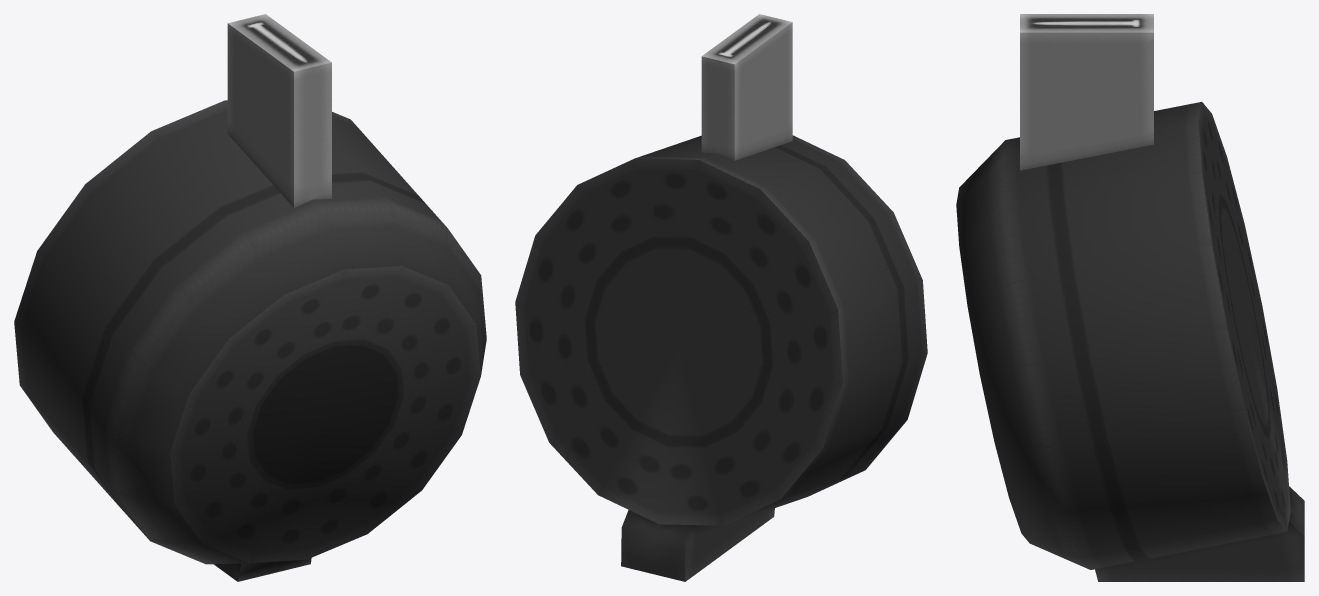
The model's file is NailGun_Clip.fbx.
The picture shows the model from 3 angles, left to right: view 1: azimuth 30°, elevation 25°; view 2: azimuth 150°, elevation 25°; view 3: azimuth 270°, elevation 25°; orthographic projection. The views are drawn at different scales.
Visible parts, largest first — view 1: DrumClip; view 2: DrumClip; view 3: DrumClip.
Boxes of the visible parts, bbox=[...] form: DrumClip: bbox=[14, 14, 486, 581]; DrumClip: bbox=[515, 14, 927, 581]; DrumClip: bbox=[956, 14, 1304, 581].
Size of the model in its own units: 21.2 by 28.82 by 16.84.
